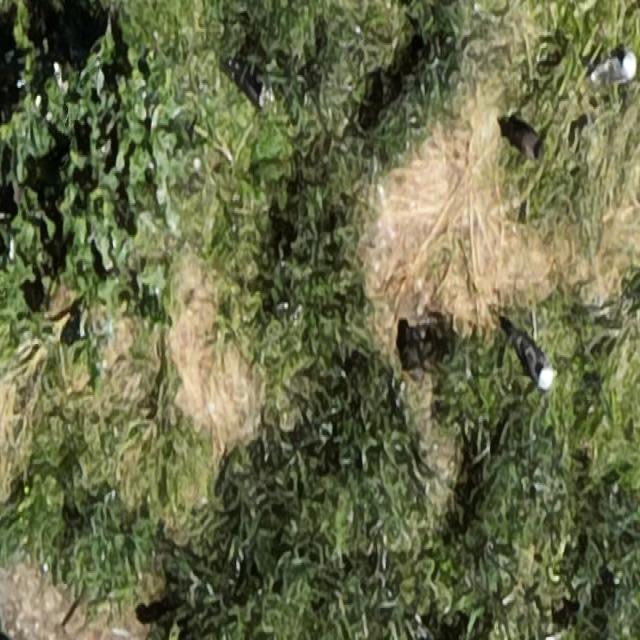umineko: (512, 332, 552, 391), (597, 56, 636, 79)
